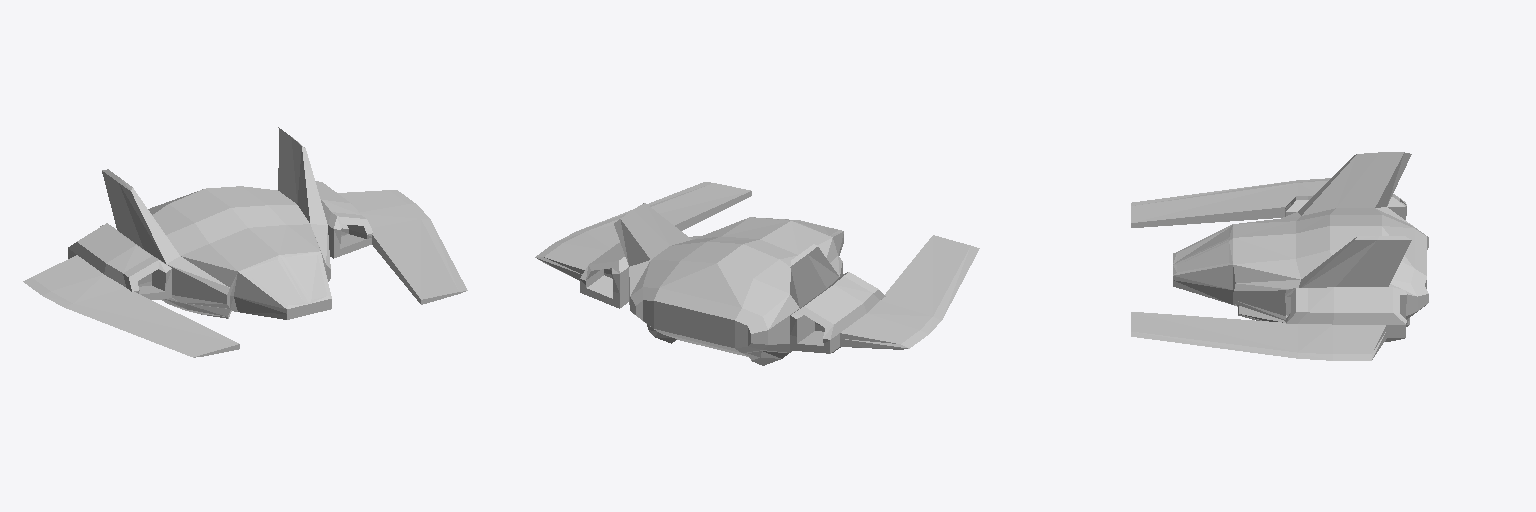
File: player_ship.obj
3 views of the same model, side by side, from view 1: azimuth 30°, elevation 25°; view 2: azimuth 150°, elevation 25°; view 3: azimuth 270°, elevation 25° (orthographic).
Visible parts, largest first — view 1: Cube; view 2: Cube; view 3: Cube.
Boxes of the visible parts, x1,y1,x2,y2 form: Cube: [23, 127, 467, 357]; Cube: [535, 182, 979, 365]; Cube: [1131, 152, 1428, 360].
Size of the model in its own units: 8.28 by 2.61 by 5.7.